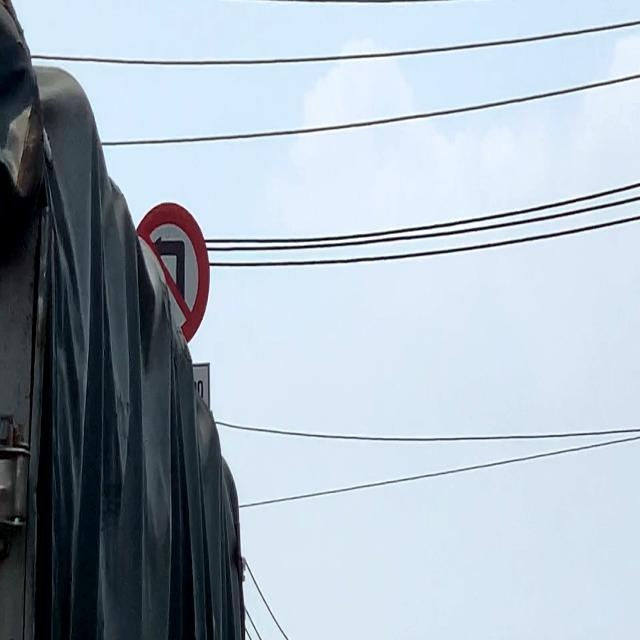bien_cam: (126, 200, 211, 360)
